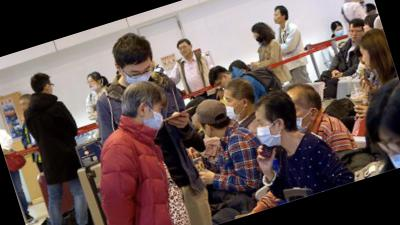mask_weared_incorrect: (86, 78, 102, 93)
with_mask: (252, 113, 285, 153), (139, 103, 169, 136), (122, 63, 157, 88), (221, 93, 245, 127), (253, 32, 266, 45), (333, 26, 346, 38)
without_mask: (359, 46, 377, 71), (348, 23, 368, 43), (214, 73, 233, 91), (362, 20, 377, 35), (178, 43, 192, 59), (272, 11, 283, 26), (19, 101, 29, 111)
